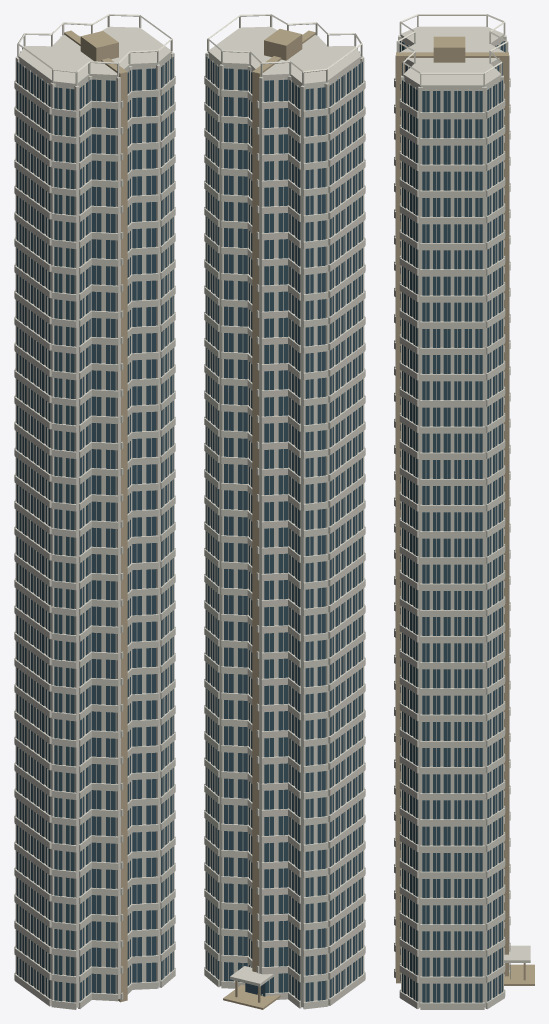
The model's file is KOL_T1_URBANA__Tower_02.fbx.
3 views of the same model, side by side, from view 1: azimuth 30°, elevation 25°; view 2: azimuth 150°, elevation 25°; view 3: azimuth 270°, elevation 25° (orthographic).
Visible parts, largest first — view 1: KOL_T1_URBANA__Tower_02__KOL_T1_Pearl, KOL_T1_URBANA__Tower_02__KOL_T1_Glass, KOL_T1_URBANA__Tower_02__KOL_T1_Pearl.001, KOL_T1_URBANA__Tower_02__KOL_T1_Stone; view 2: KOL_T1_URBANA__Tower_02__KOL_T1_Pearl, KOL_T1_URBANA__Tower_02__KOL_T1_Glass, KOL_T1_URBANA__Tower_02__KOL_T1_Pearl.001, KOL_T1_URBANA__Tower_02__KOL_T1_Stone; view 3: KOL_T1_URBANA__Tower_02__KOL_T1_Pearl, KOL_T1_URBANA__Tower_02__KOL_T1_Glass, KOL_T1_URBANA__Tower_02__KOL_T1_Pearl.001, KOL_T1_URBANA__Tower_02__KOL_T1_Stone.
Boxes of the visible parts, left/top/right/bottom form: KOL_T1_URBANA__Tower_02__KOL_T1_Pearl: left=14, top=36, right=175, bottom=1009; KOL_T1_URBANA__Tower_02__KOL_T1_Glass: left=17, top=57, right=173, bottom=1002; KOL_T1_URBANA__Tower_02__KOL_T1_Pearl.001: left=14, top=14, right=175, bottom=275; KOL_T1_URBANA__Tower_02__KOL_T1_Stone: left=64, top=30, right=127, bottom=1002; KOL_T1_URBANA__Tower_02__KOL_T1_Pearl: left=204, top=36, right=365, bottom=1009; KOL_T1_URBANA__Tower_02__KOL_T1_Glass: left=206, top=56, right=362, bottom=1001; KOL_T1_URBANA__Tower_02__KOL_T1_Pearl.001: left=204, top=14, right=365, bottom=986; KOL_T1_URBANA__Tower_02__KOL_T1_Stone: left=223, top=29, right=315, bottom=1009; KOL_T1_URBANA__Tower_02__KOL_T1_Pearl: left=394, top=35, right=510, bottom=1009; KOL_T1_URBANA__Tower_02__KOL_T1_Glass: left=399, top=41, right=510, bottom=1002; KOL_T1_URBANA__Tower_02__KOL_T1_Pearl.001: left=394, top=14, right=530, bottom=962; KOL_T1_URBANA__Tower_02__KOL_T1_Stone: left=396, top=36, right=534, bottom=985.
Size of the model in its own units: 50.8 by 359 by 48.68.
